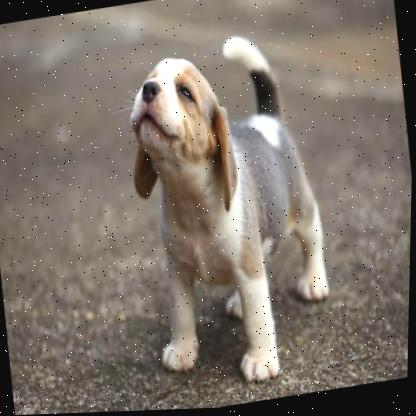dog: (106, 20, 352, 407)
